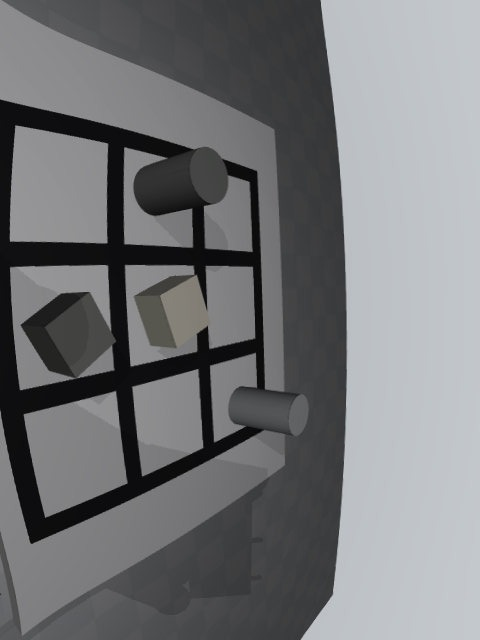can: (228, 386, 308, 436)
cube: (20, 292, 116, 378)
cylinder: (133, 147, 228, 216)
foam: (134, 275, 211, 348)
